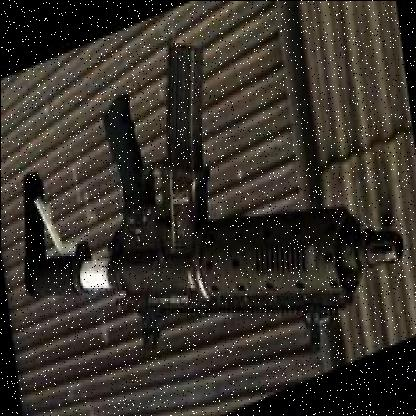rifle: (1, 0, 404, 416)
